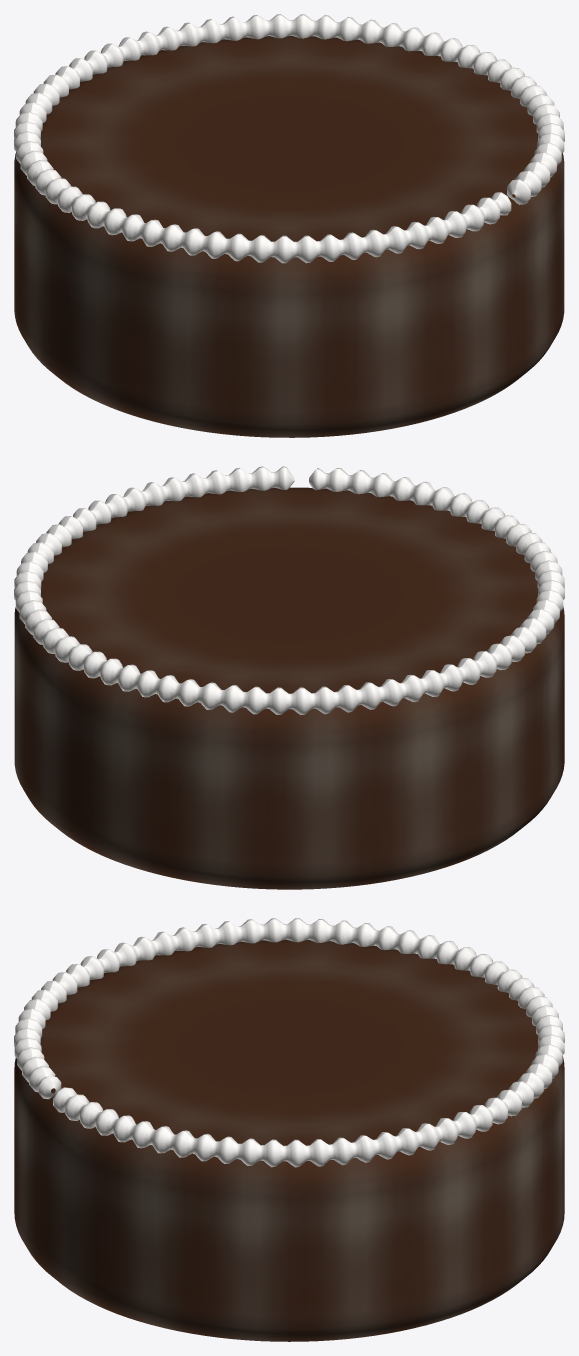
File: cake.glb
The picture shows the model from 3 angles, top to bottom: view 1: azimuth 30°, elevation 25°; view 2: azimuth 150°, elevation 25°; view 3: azimuth 270°, elevation 25°; orthographic projection.
Bounding box in the file's own units: 0.2404 × 0.0984 × 0.2403.
